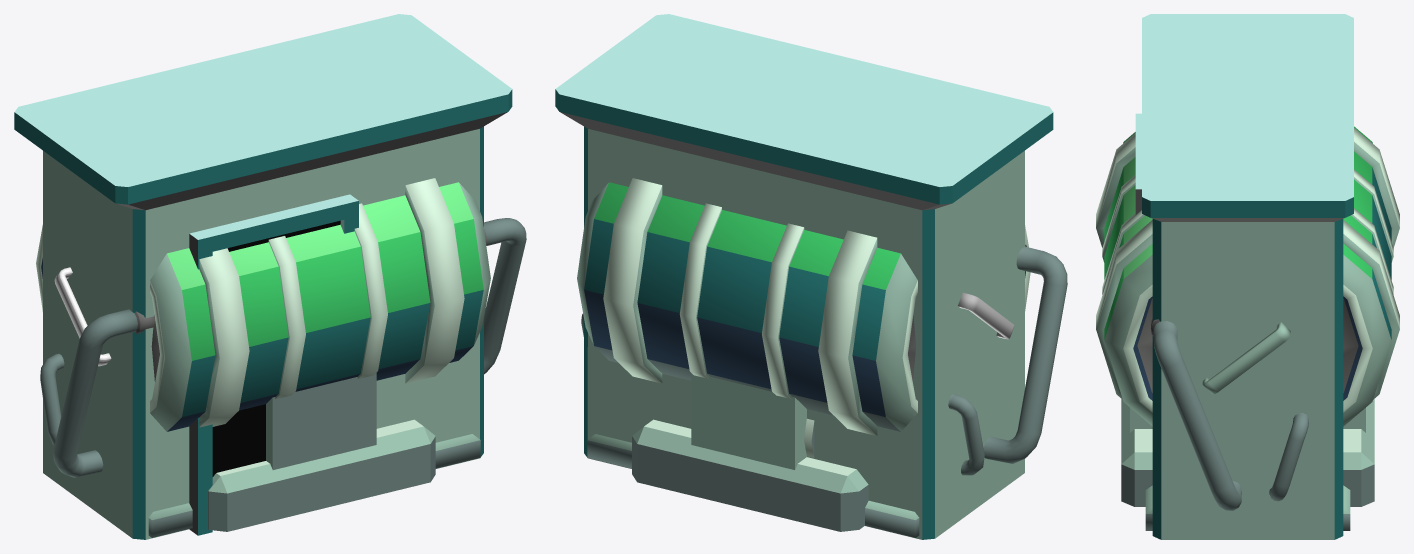
The model's file is humanchain_roofprops_old.fbx.
3 views of the same model, side by side, from view 1: azimuth 30°, elevation 25°; view 2: azimuth 150°, elevation 25°; view 3: azimuth 270°, elevation 25° (orthographic). The views are drawn at different scales.
Visible parts, largest first — view 1: structure_01.001, Cube.001, Cube.002, structure_07.002; view 2: structure_01.001, Cube.001, Cube.002, structure_07.002; view 3: structure_01.001, Cube.001, Cube.002, structure_07.002.
Part boxes in pixels (x1,y1,x2,y2): structure_01.001: (14,14,512,539); Cube.001: (36,178,526,537); Cube.002: (208,419,435,531); structure_07.002: (266,373,376,469); structure_01.001: (555,14,1053,539); Cube.001: (577,178,1067,537); Cube.002: (632,419,868,531); structure_07.002: (691,373,814,469); structure_01.001: (1135,14,1353,539); Cube.001: (1096,126,1399,530); Cube.002: (1121,399,1374,506); structure_07.002: (1130,408,1365,432).
Size of the model in its own units: 3.91 by 3.05 by 2.4.
